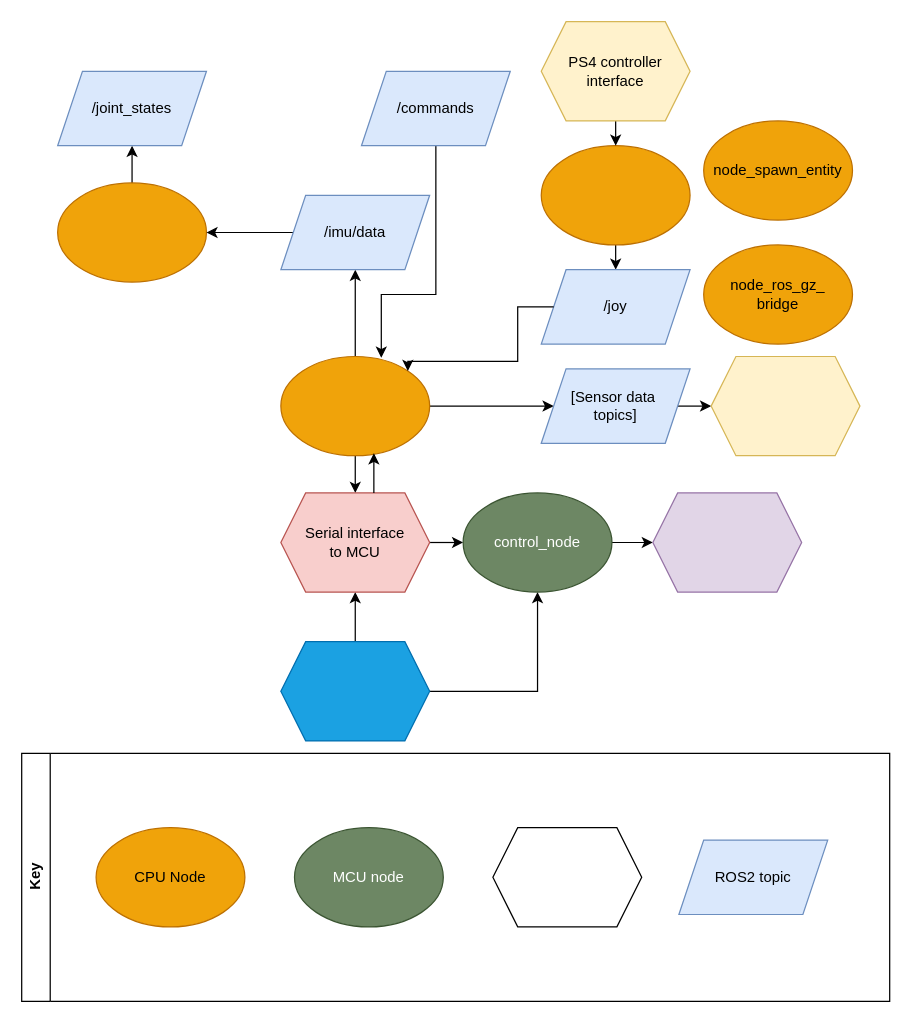
The diagram is 911 pixels wide and 1023 high, and some of its shapes have lost their labels. The shapes that lost their labels are listed below. From the top down, each one's centre as x and y in pixels, then its label:
At pixel 615 194: "node_joy".
At pixel 131 232: "joint_state_ publisher_node".
At pixel 355 405: "uart_read_write _node".
At pixel 785 405: "GUI interface".
At pixel 727 542: "Motor drive interface".
At pixel 355 690: "Sensor data into MCU".
At pixel 567 876: "Connection to hardware".
